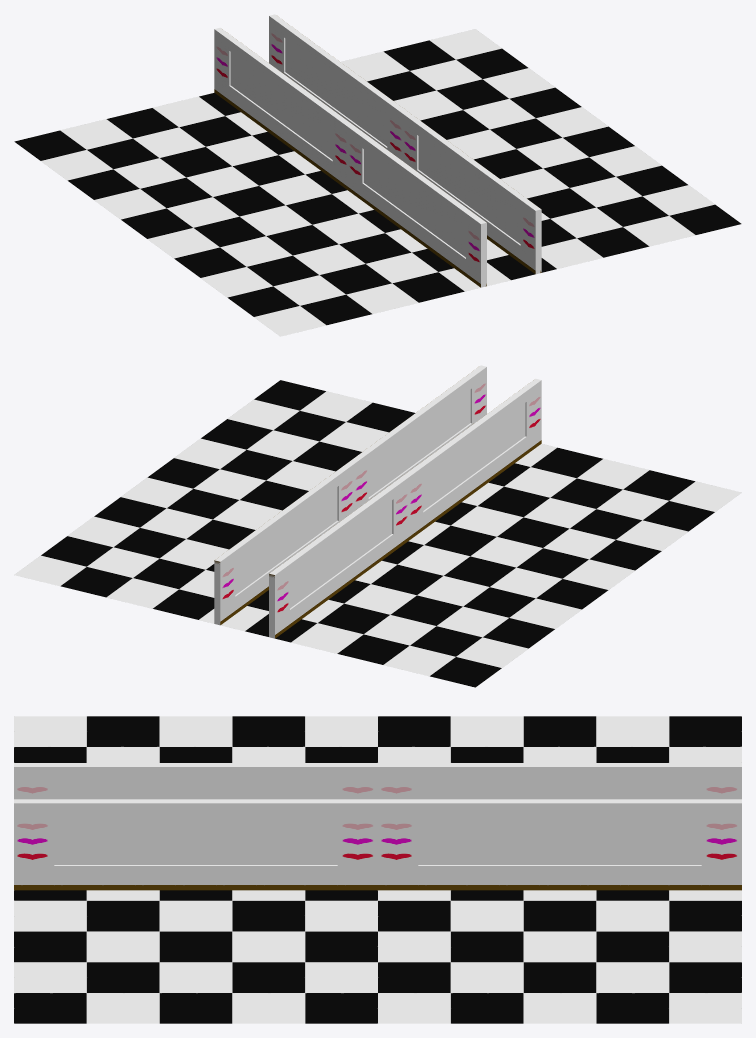
File: Tunagi3.fbx
3 views of the same model, one above another, from view 1: azimuth 30°, elevation 25°; view 2: azimuth 150°, elevation 25°; view 3: azimuth 270°, elevation 25° (orthographic). The views are drawn at different scales.
Parts seen in each view (by area): view 1: pPlane2, pCube7 (×4), pCube8 (×4); view 2: pPlane2, pCube7 (×4), pCube8 (×4); view 3: pPlane2, pCube7 (×4), pCube8 (×4).
Boxes of the visible parts, bbox=[...] form: pPlane2: bbox=[14, 29, 741, 336]; pCube7 (×4): bbox=[214, 14, 541, 287]; pCube8 (×4): bbox=[230, 38, 520, 257]; pPlane2: bbox=[14, 380, 741, 687]; pCube7 (×4): bbox=[214, 365, 541, 638]; pCube8 (×4): bbox=[235, 389, 525, 608]; pPlane2: bbox=[14, 716, 741, 1023]; pCube7 (×4): bbox=[14, 763, 741, 890]; pCube8 (×4): bbox=[54, 781, 701, 864].
Size of the model in its own units: 3800 by 500 by 3800.
Materials: 3 (2 with a texture image).
